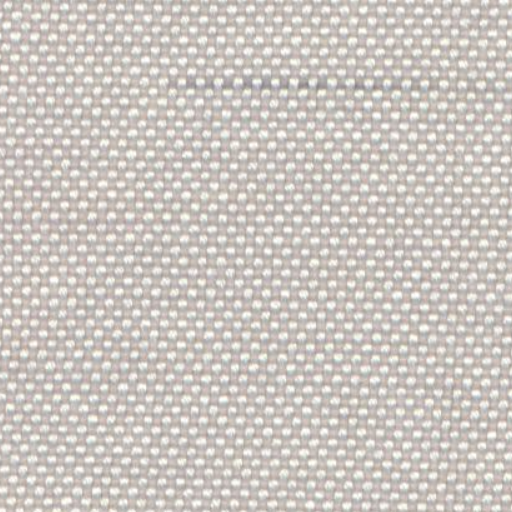WuZi: (172, 70, 428, 91)
